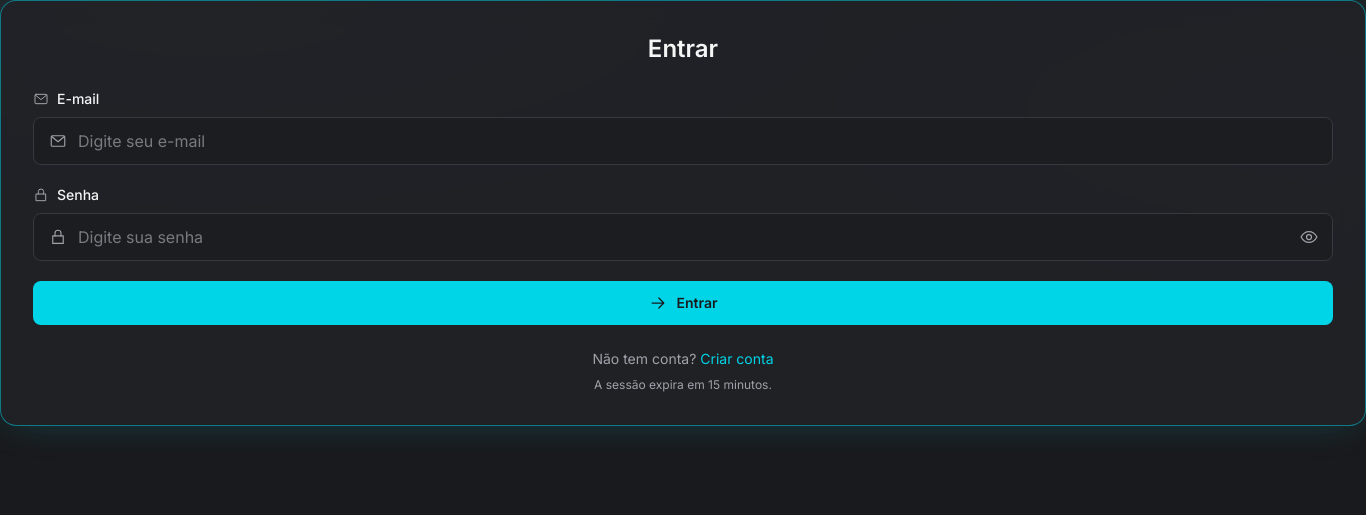
Test: FormLogin › senha errada mostra a mensagem do servidor traduzida
Type "a@a.com" into the field labelled "E-mail" at (683, 141), box 33,117 -> 1333,165
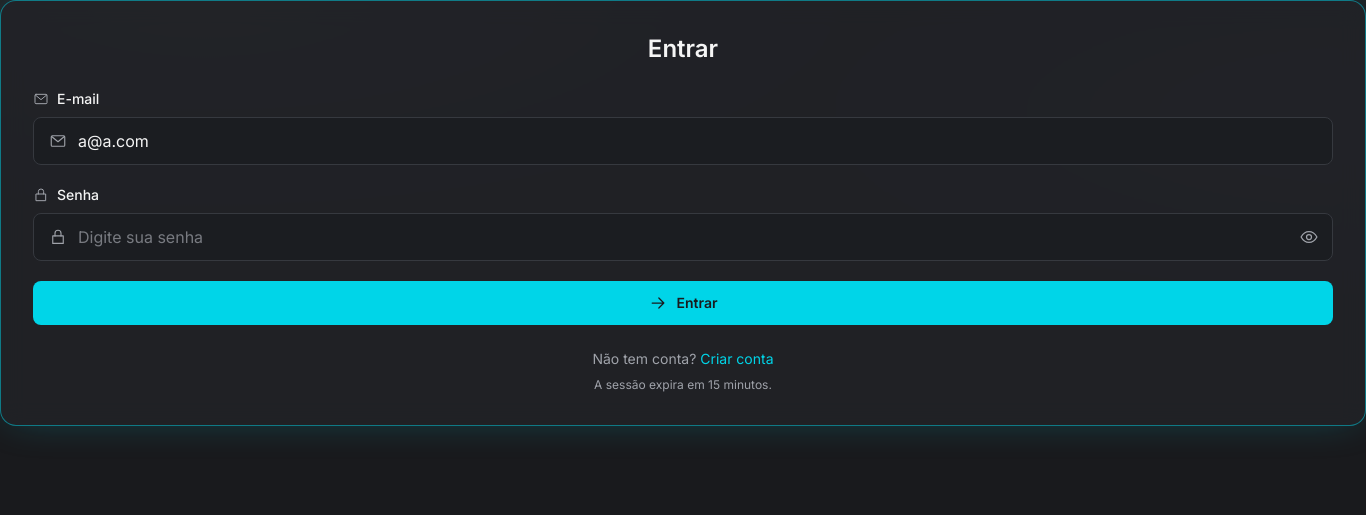
Type "errada123" into the password field labelled "Senha" at (683, 237), box 33,213 -> 1333,261
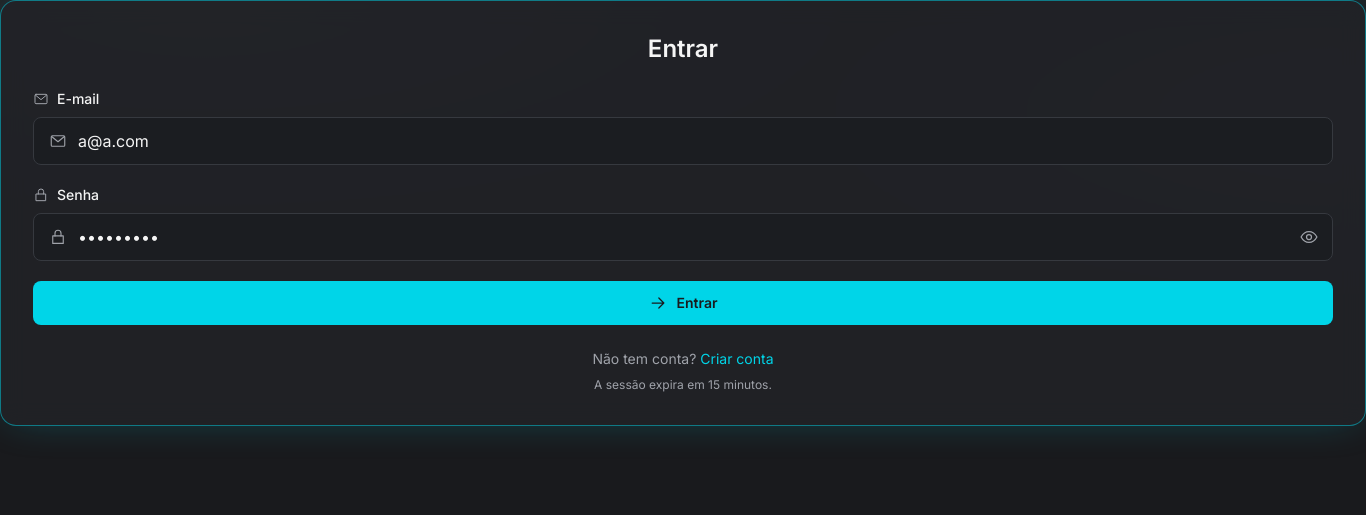
Click the button "Entrar" at (683, 303), box 33,281 -> 1333,325
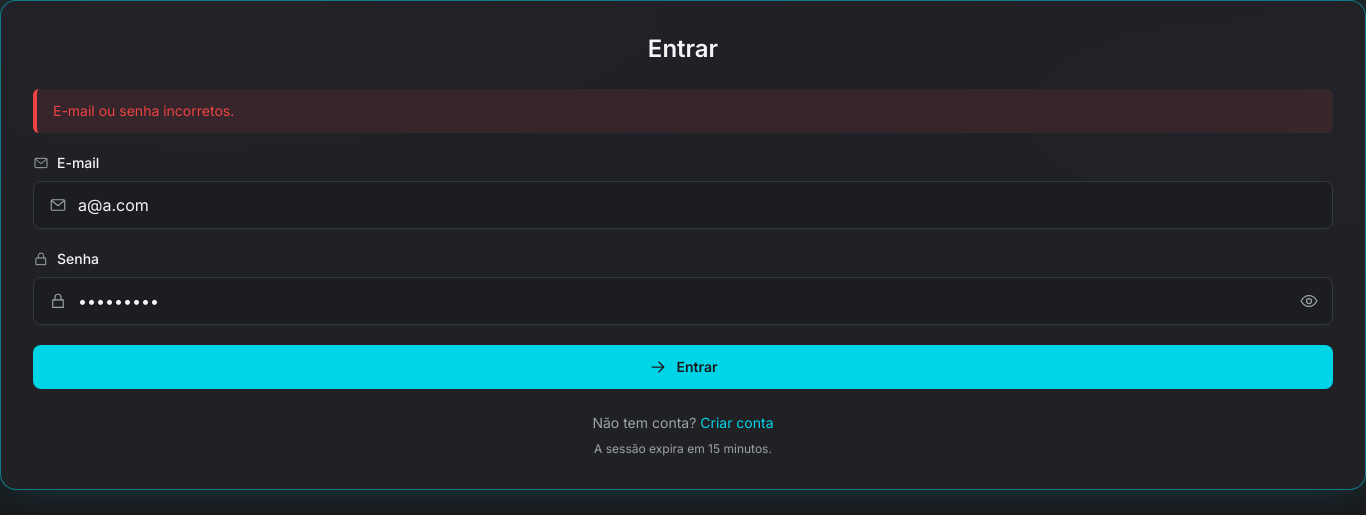
Expected: the button "Entrar" is enabled, 33,345 -> 1333,389
Expected: the message reads "E-mail ou senha incorretos.", 53,102 -> 234,119
